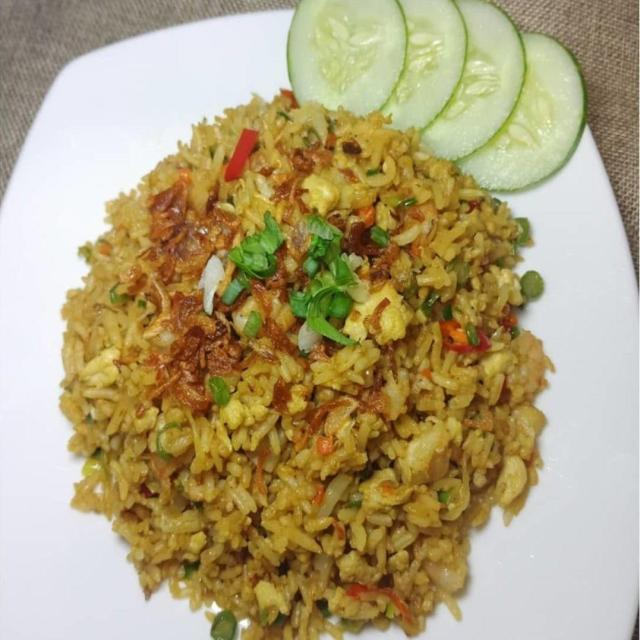Nasi Goreng: (58, 88, 554, 638)
